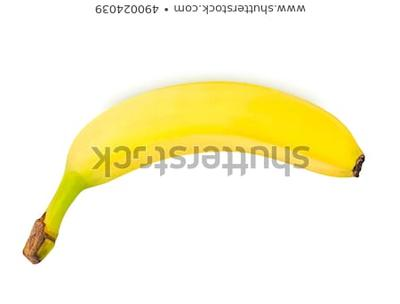banana: (0, 0, 400, 304)
